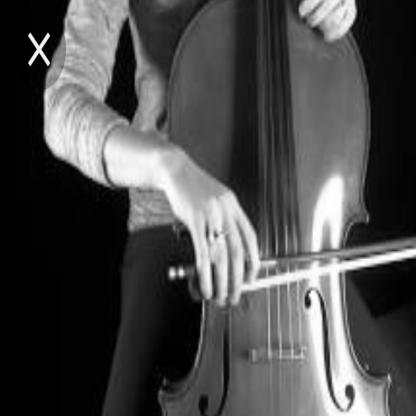good: (160, 159, 264, 313)
